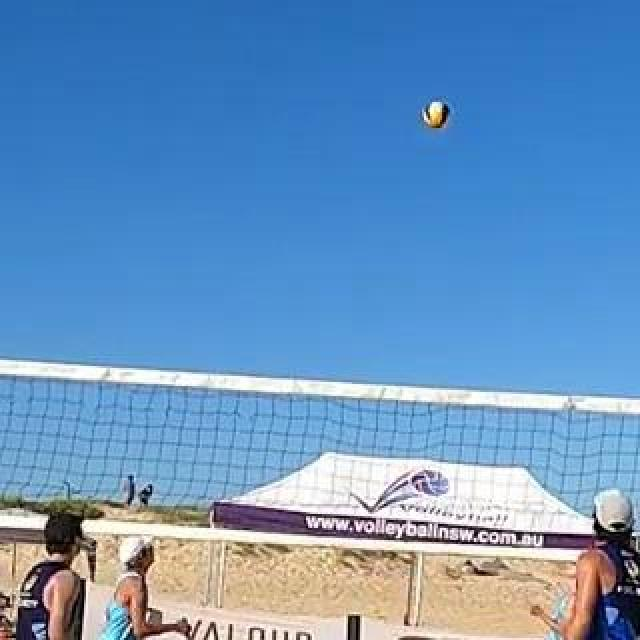volleyball: (423, 102, 453, 130)
